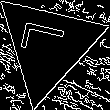L_E: (20, 24, 76, 67)
